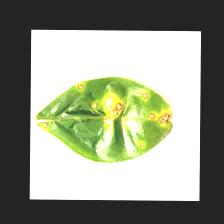greening: (76, 80, 183, 148)
